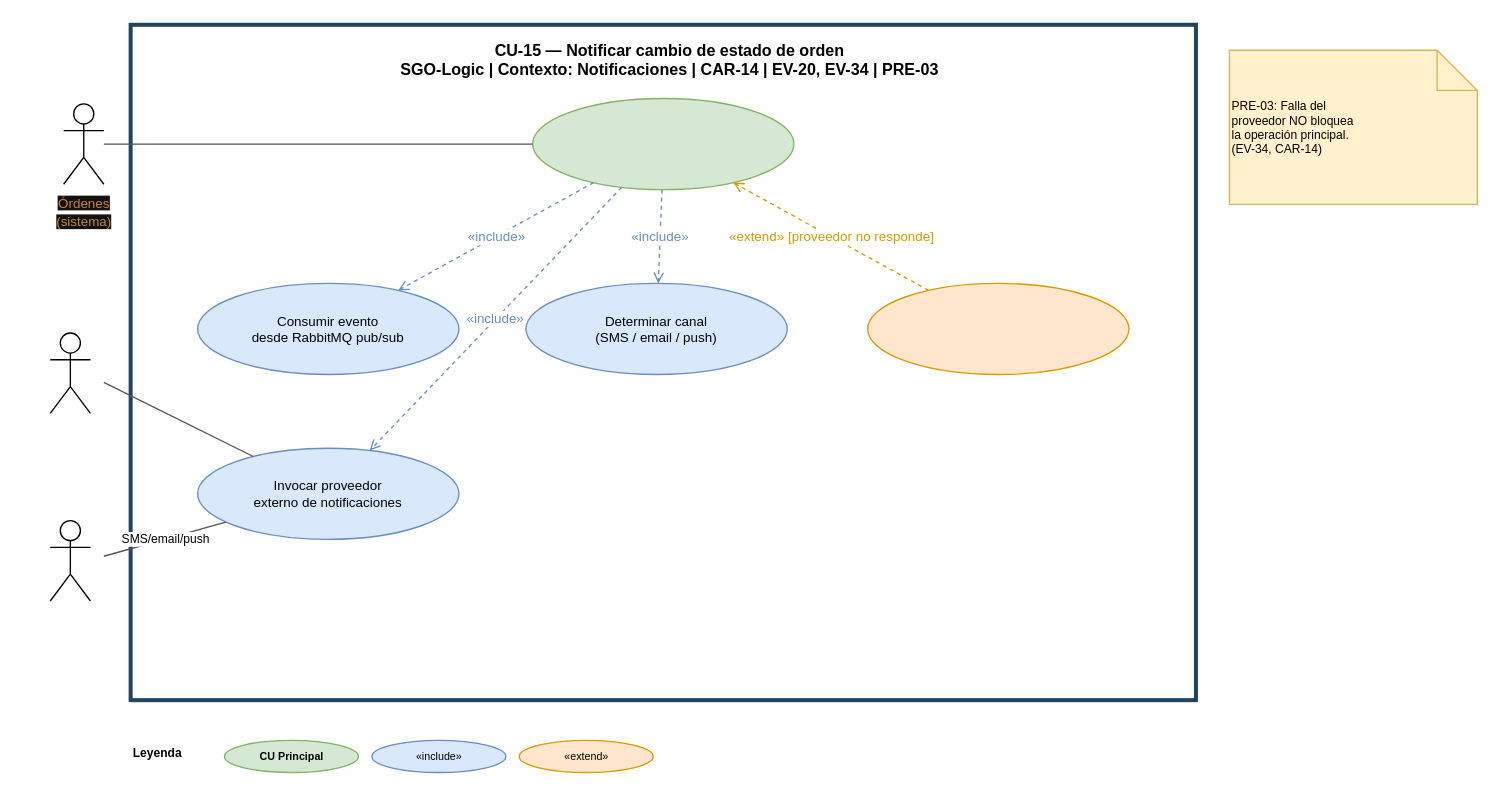
Some shapes in this 1501 by 796 pixel diagram are drawn without their labels. Each missing label, with the centre of its shape:
"Cliente (AS-01)" belongs at (x=69, y=560).
"Notificar cambio de estado de orden" belongs at (x=662, y=143).
"Proveedor notif. (AS-08)" belongs at (x=69, y=372).
"Registrar falla (no propaga al flujo)" belongs at (x=997, y=328).
